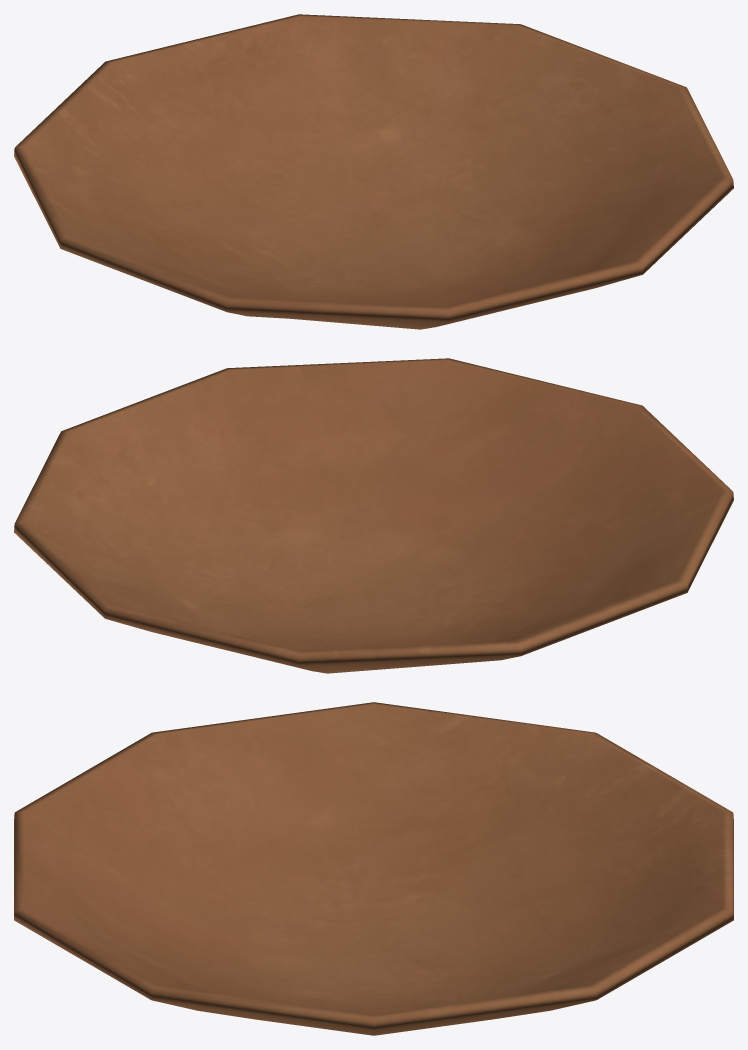
The model's file is SoupPlate.fbx.
The picture shows the model from 3 angles, top to bottom: view 1: azimuth 30°, elevation 25°; view 2: azimuth 150°, elevation 25°; view 3: azimuth 270°, elevation 25°; orthographic projection. The views are drawn at different scales.
Visible parts, largest first — view 1: SoupPlate; view 2: SoupPlate; view 3: SoupPlate.
Boxes of the visible parts, x1,y1,x2,y2 form: SoupPlate: (14,14,733,329); SoupPlate: (14,358,733,673); SoupPlate: (14,702,733,1035).
Size of the model in its own units: 11.65 by 1.73 by 11.08.
